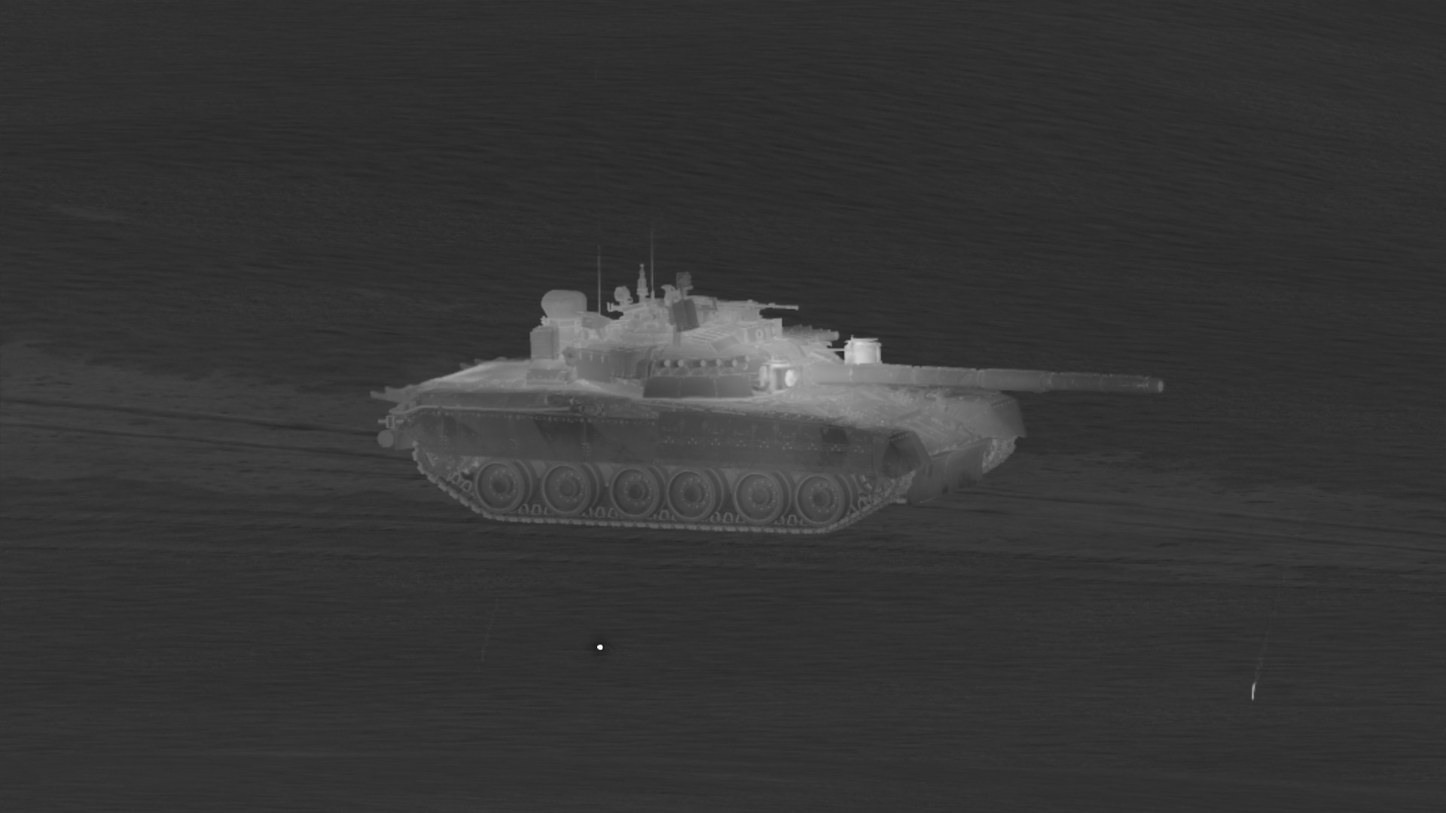t-80u: (372, 268, 1167, 536)
